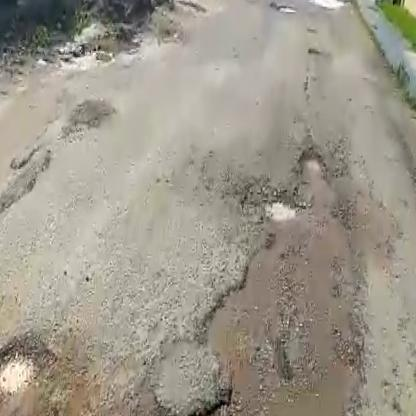pothole: (0, 334, 53, 403), (263, 197, 299, 225), (300, 150, 328, 174)
